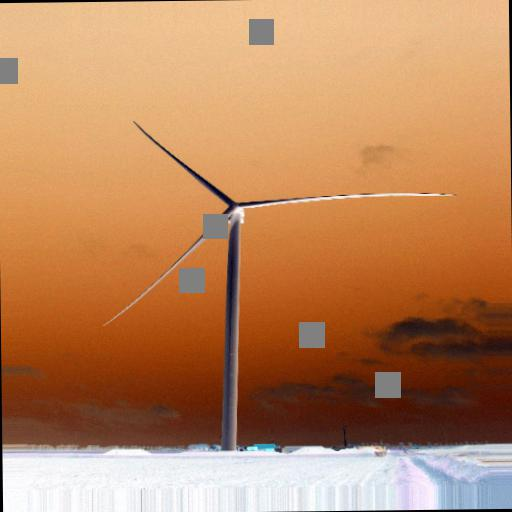wind turbine: (101, 121, 460, 453)
